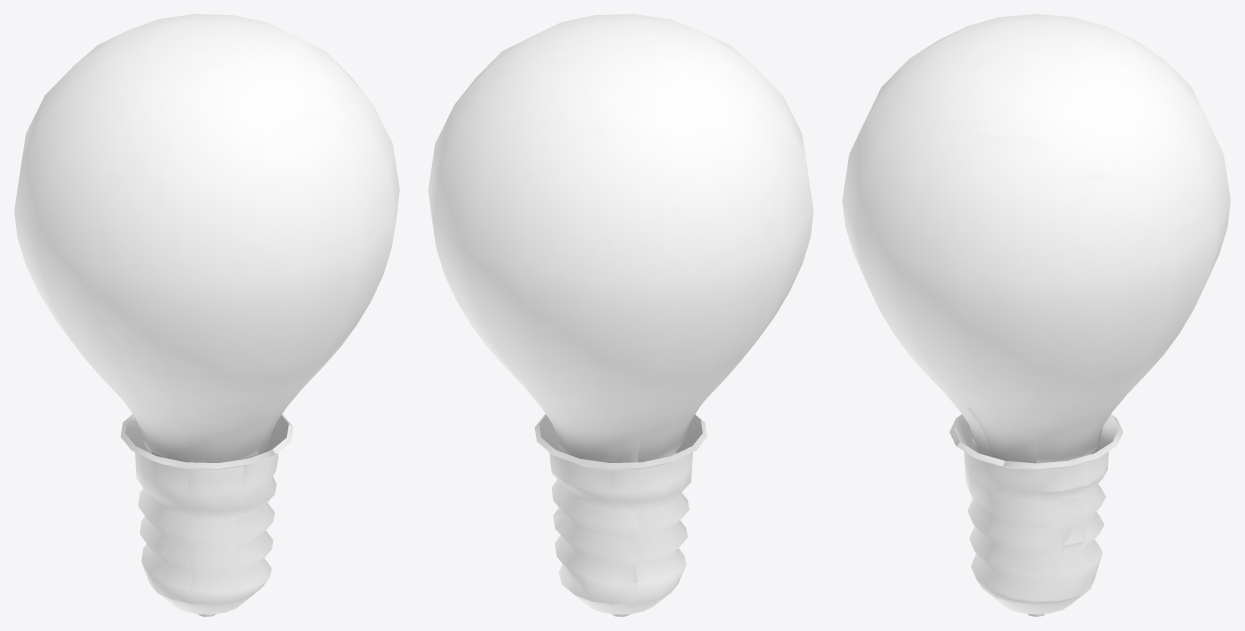
The model's file is LightPatron.glb.
The picture shows the model from 3 angles, left to right: view 1: azimuth 30°, elevation 25°; view 2: azimuth 150°, elevation 25°; view 3: azimuth 270°, elevation 25°; orthographic projection.
Visible parts, largest first — view 1: LightPatron; view 2: LightPatron; view 3: LightPatron.
Boxes of the visible parts, <box> form: LightPatron: <box>14,14,399,616</box>; LightPatron: <box>428,14,813,616</box>; LightPatron: <box>842,14,1230,616</box>.
Size of the model in its own units: 0.0745 by 0.1216 by 0.0745.
1 material, 1 textured.
